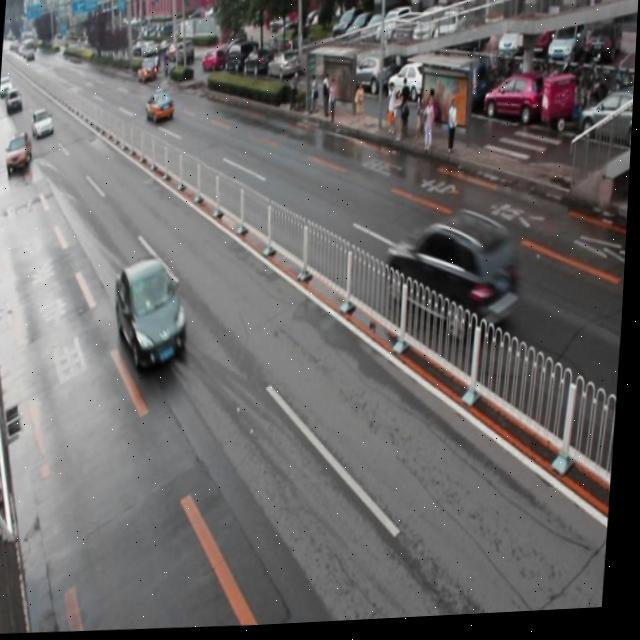car: (384, 217, 528, 348), (112, 255, 194, 376), (146, 90, 177, 125)
